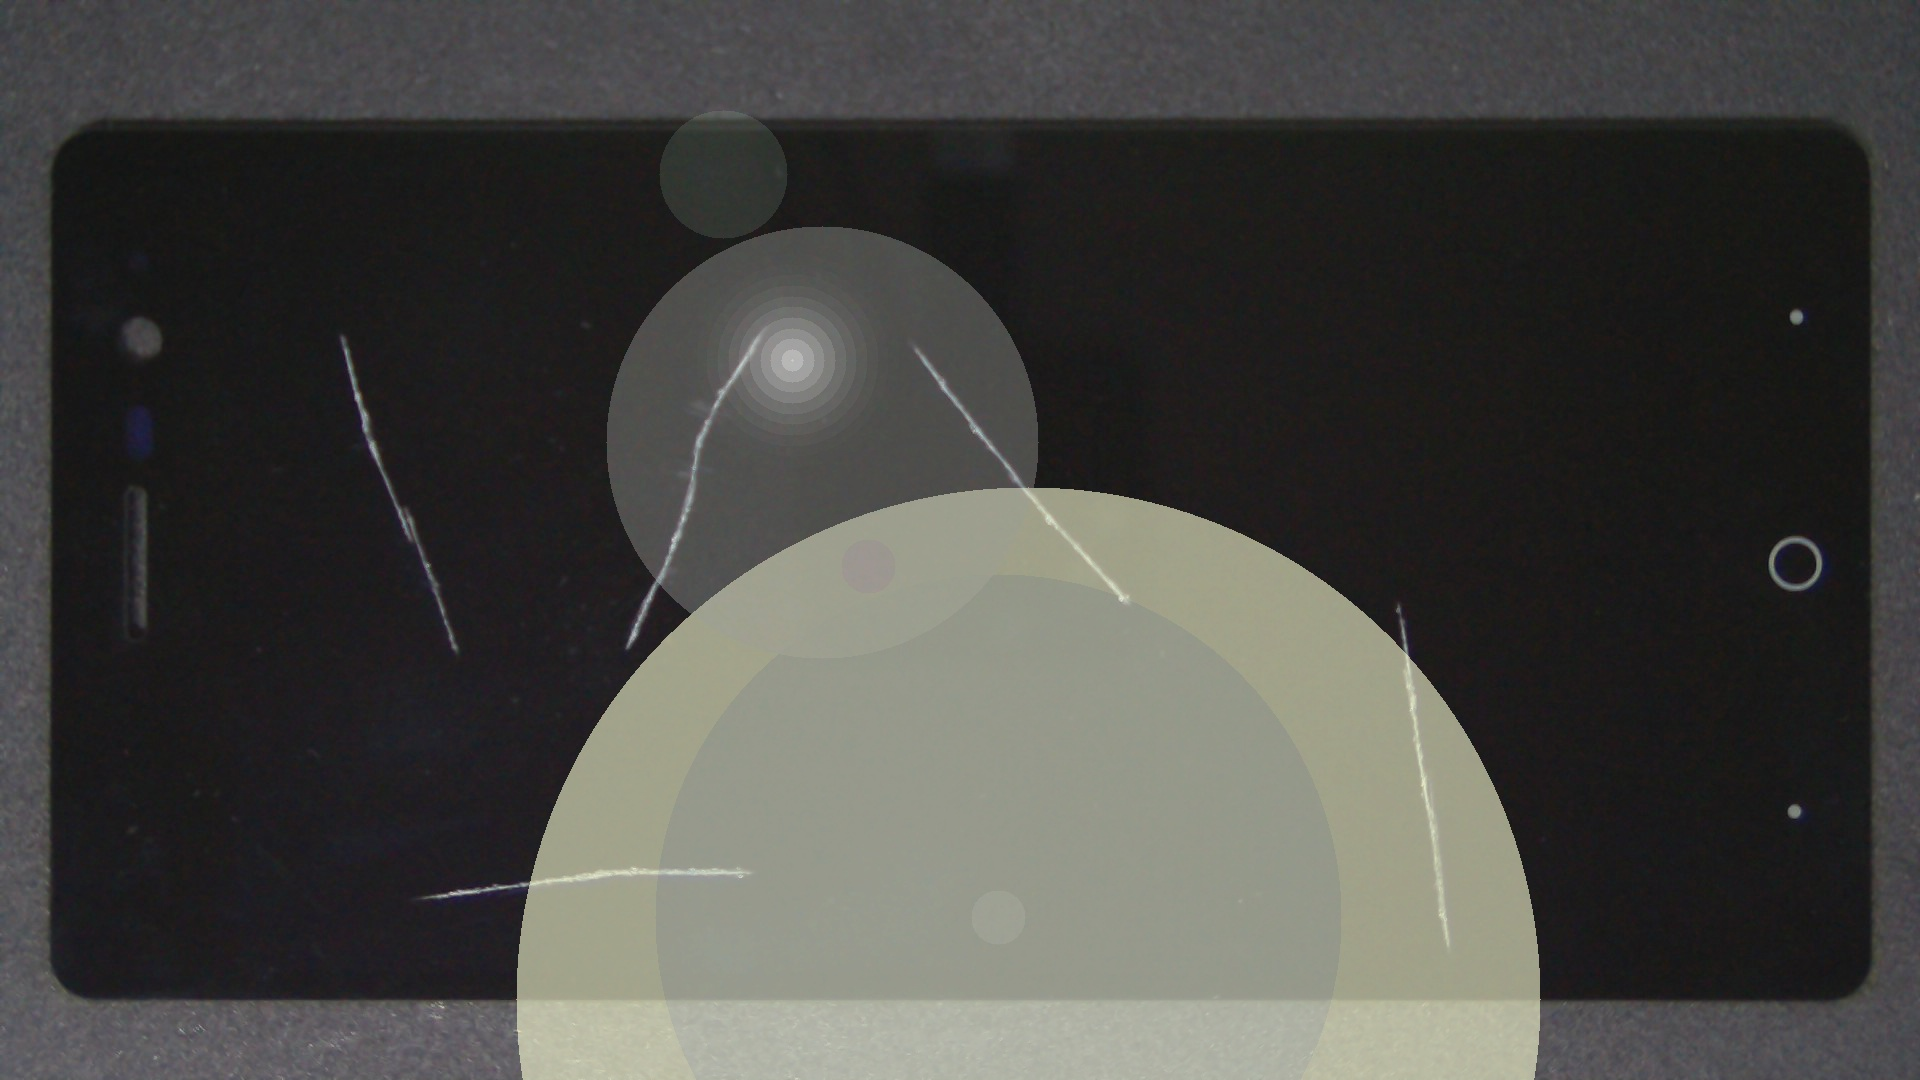oil: (699, 301, 1920, 903), (314, 433, 942, 1080), (456, 171, 1367, 516), (384, 161, 1149, 487), (173, 166, 516, 498)
